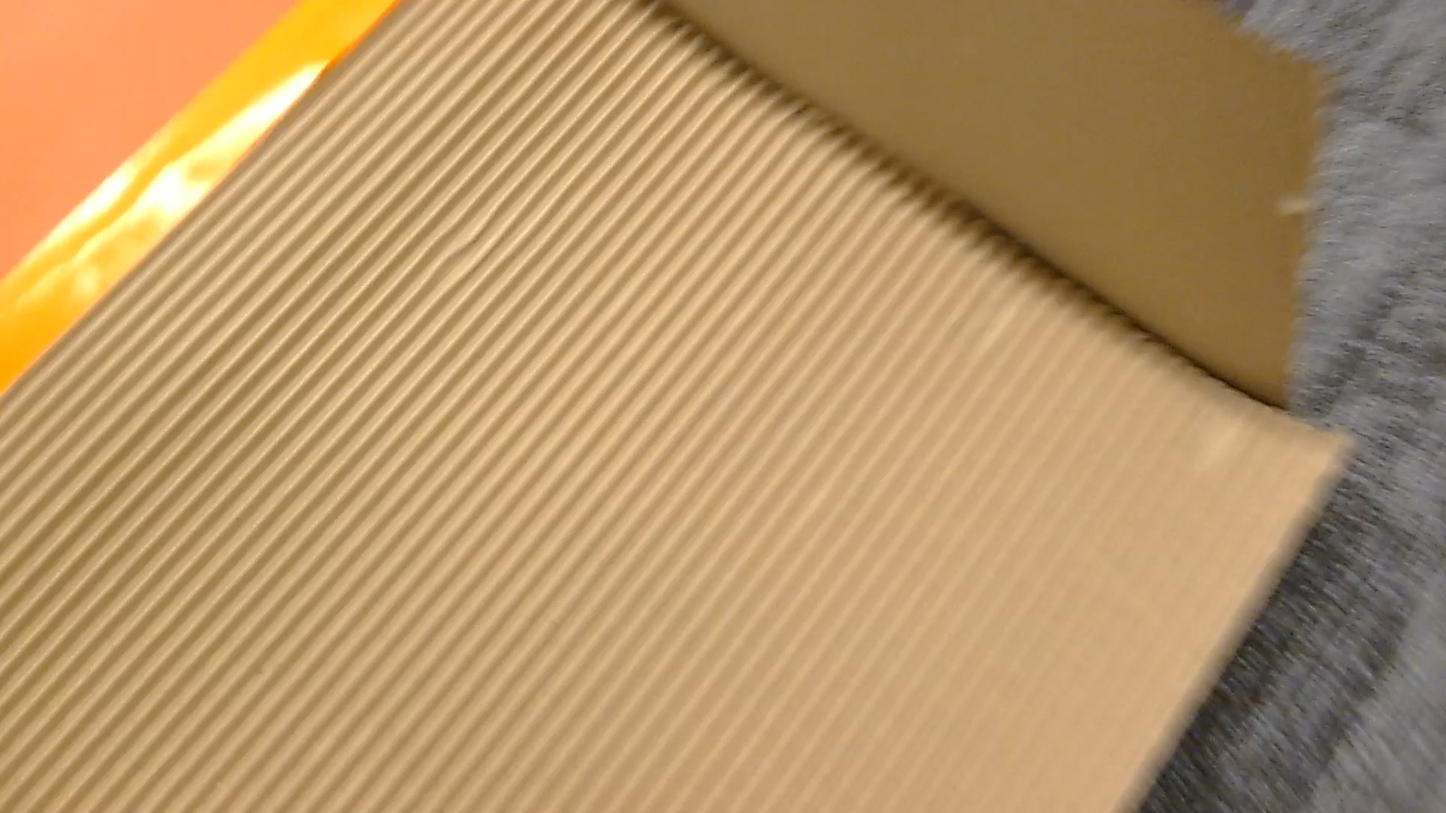Ramp: (0, 0, 1353, 812)
